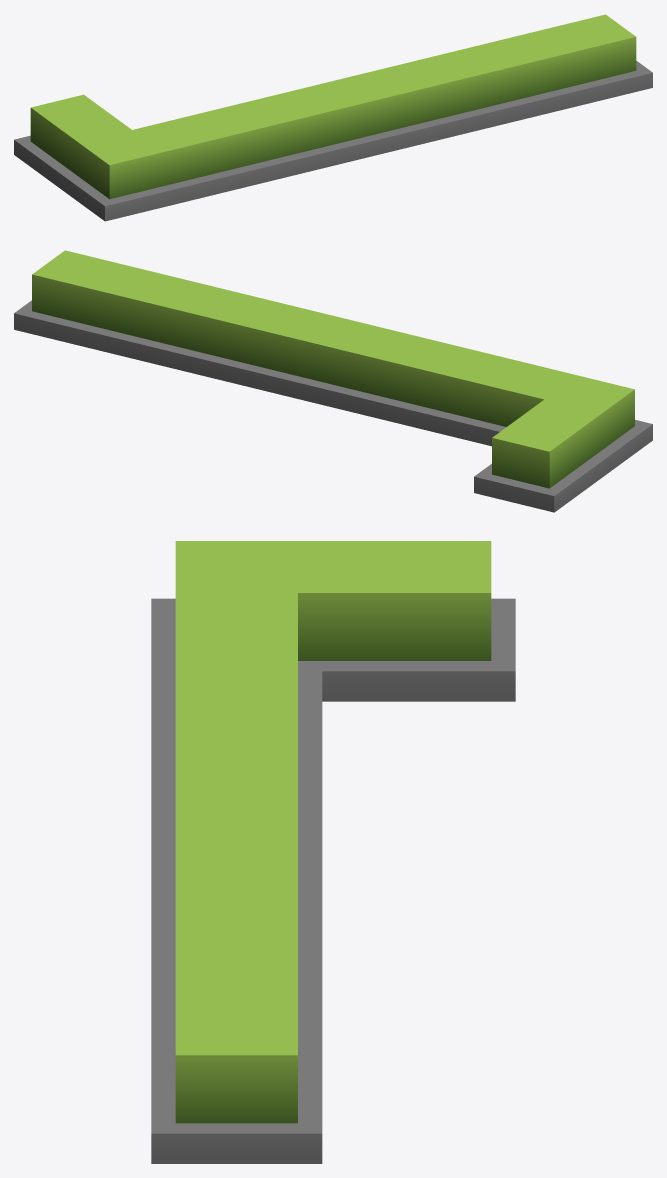
The model's file is grass 12.fbx.
3 views of the same model, one above another, from view 1: azimuth 30°, elevation 25°; view 2: azimuth 150°, elevation 25°; view 3: azimuth 270°, elevation 25° (orthographic). The views are drawn at different scales.
Visible parts, largest first — view 1: grass_12; view 2: grass_12; view 3: grass_12.
Part boxes in pixels (x1,y1,x2,y2): grass_12: [14, 14, 652, 221]; grass_12: [14, 250, 652, 512]; grass_12: [151, 541, 515, 1163].
Size of the model in its own units: 1115 by 95.64 by 321.
Materials: 1 (1 with a texture image).
